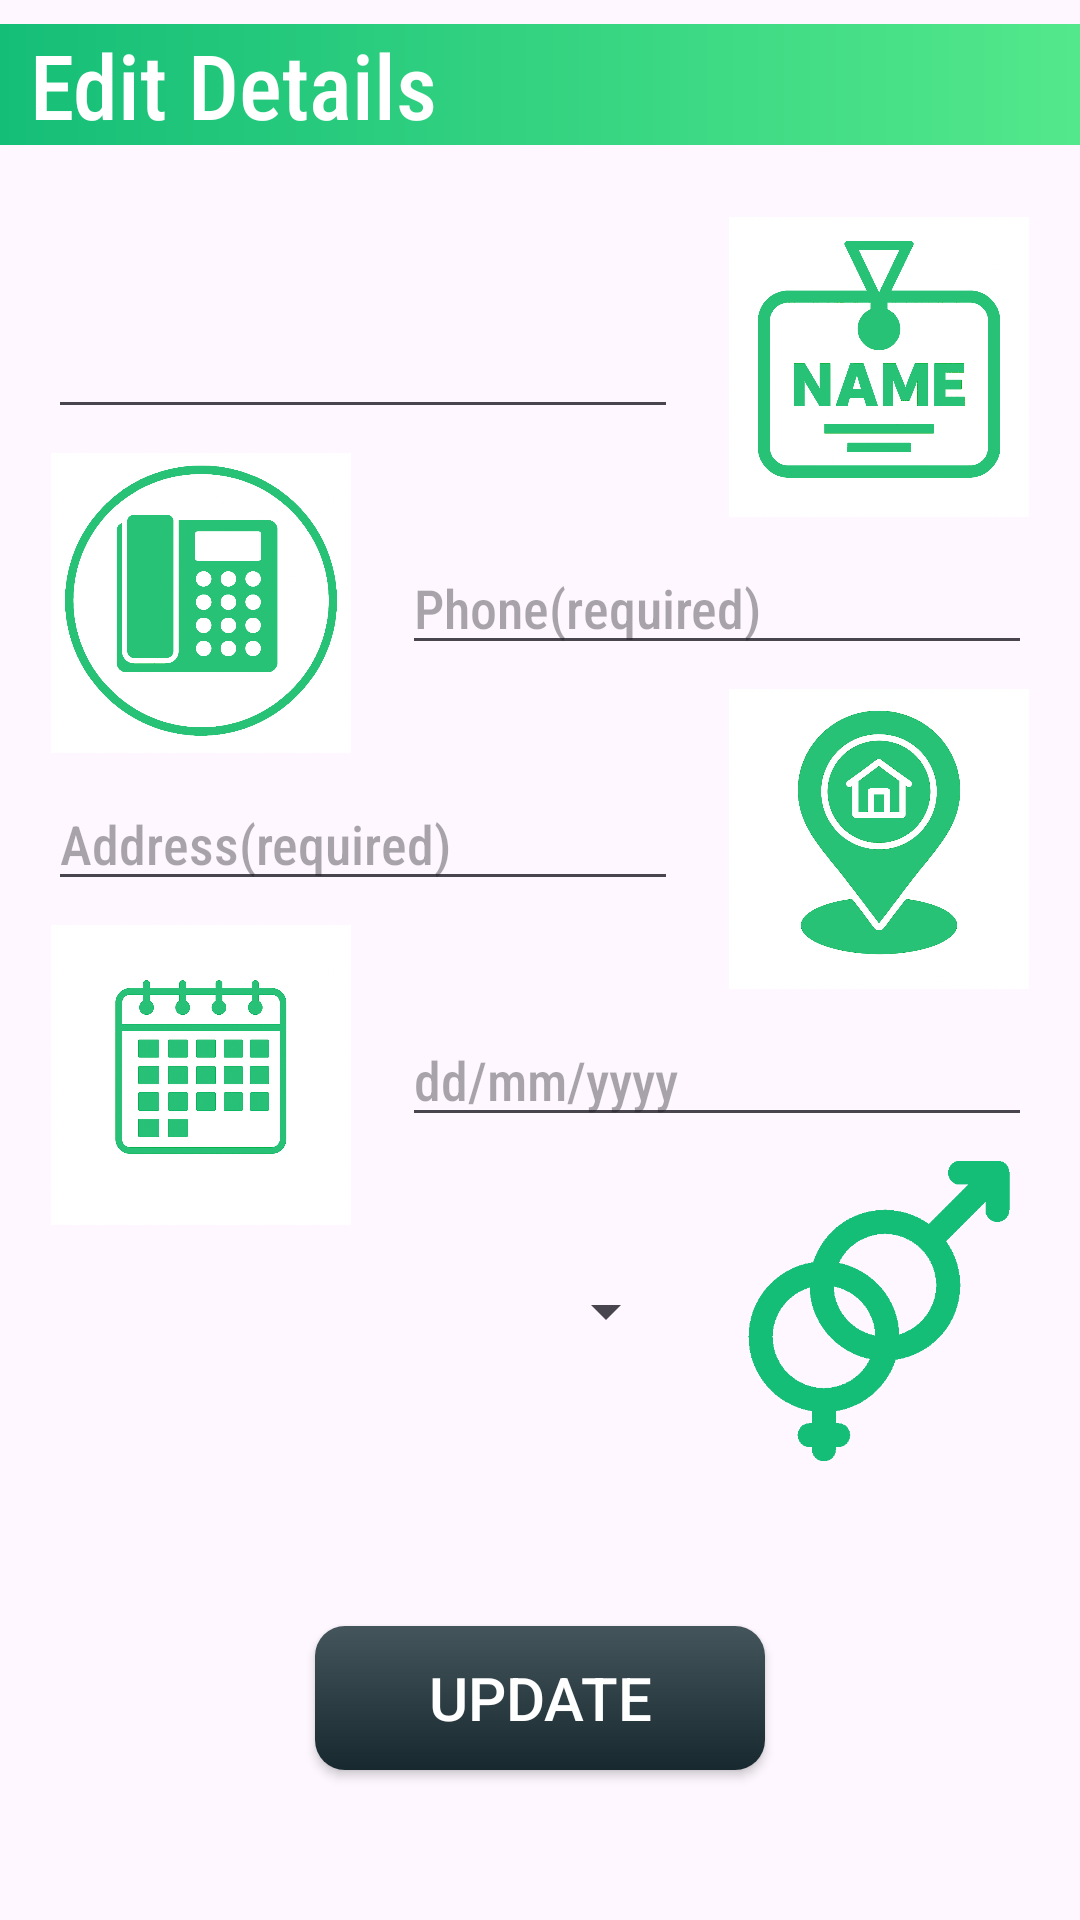

Screen size 1080×1920. Icon name, then its center in pixels as [x,y]:
dob: [201,1067]
gender: [879,1311]
